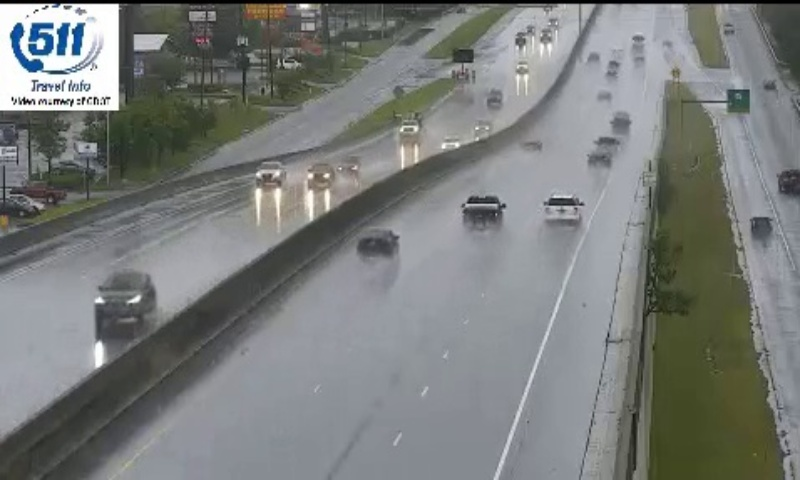car: (461, 194, 503, 226), (356, 228, 398, 257), (543, 194, 582, 224)
